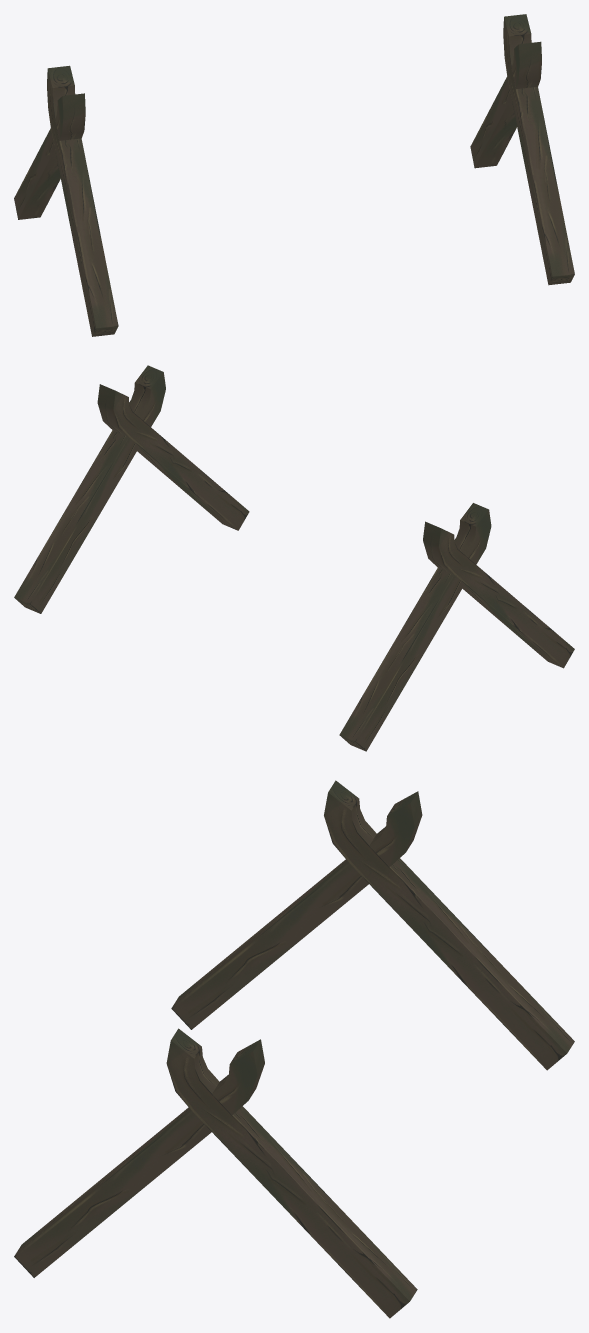
File: polysurface253_txt_poutre_inc_0_lev1_lev2.glb
3 views of the same model, one above another, from view 1: azimuth 30°, elevation 25°; view 2: azimuth 150°, elevation 25°; view 3: azimuth 270°, elevation 25° (orthographic). The views are drawn at different scales.
Visible parts, largest first — view 1: polysurface253_txt_poutre_inc_0_lev1_lev2; view 2: polysurface253_txt_poutre_inc_0_lev1_lev2; view 3: polysurface253_txt_poutre_inc_0_lev1_lev2.
Part boxes in pixels (<box>): polysurface253_txt_poutre_inc_0_lev1_lev2: <box>14,14,574,336</box>; polysurface253_txt_poutre_inc_0_lev1_lev2: <box>14,365,574,751</box>; polysurface253_txt_poutre_inc_0_lev1_lev2: <box>14,780,574,1318</box>.
Bounding box in the file's own units: 14.87 × 5.74 × 11.55.
1 material, 1 textured.
